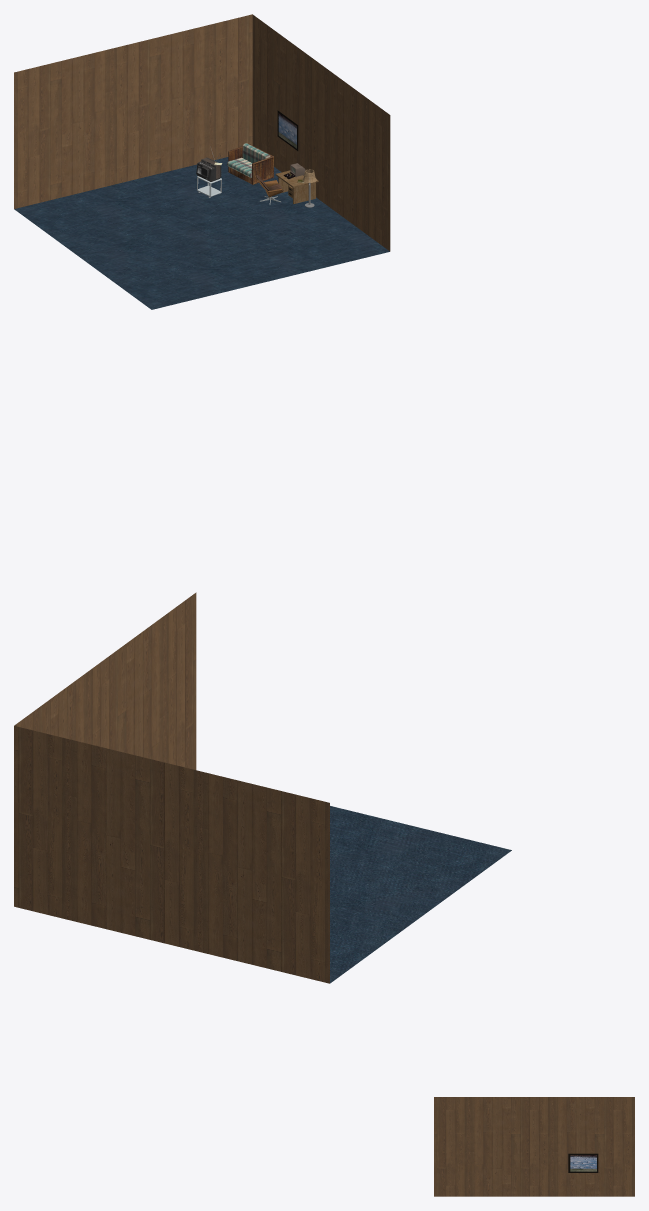
Rendered from chambre.glb.
The picture shows the model from 3 angles, top to bottom: view 1: azimuth 30°, elevation 25°; view 2: azimuth 150°, elevation 25°; view 3: azimuth 270°, elevation 25°; orthographic projection. The views are drawn at different scales.
Visible parts, largest first — view 1: mur-sol, canape, bureau; view 2: mur-sol; view 3: mur-sol, floating-corpse.
Boxes of the visible parts, bbox=[...] form: mur-sol: bbox=[14, 14, 390, 309]; canape: bbox=[228, 144, 273, 184]; bureau: bbox=[275, 170, 318, 203]; mur-sol: bbox=[14, 592, 511, 983]; mur-sol: bbox=[434, 1097, 634, 1196]; floating-corpse: bbox=[570, 1155, 596, 1171].
Size of the model in its own units: 10.02 by 5.47 by 30.89.
Materials: 26 (12 with a texture image).
